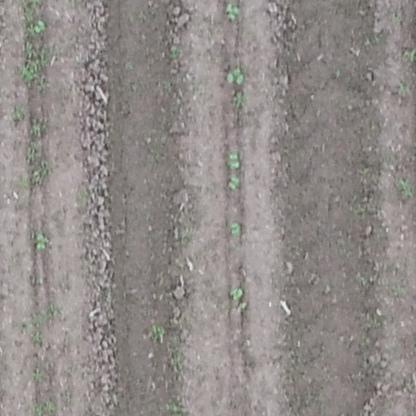vc: (224, 64, 248, 88), (224, 172, 242, 191), (225, 150, 243, 169), (223, 4, 243, 20), (33, 231, 48, 251), (31, 19, 50, 33), (228, 286, 245, 299), (228, 220, 242, 235)
